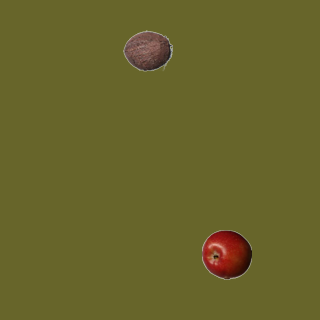Apple Braeburn: (201, 229, 251, 279)
Cocos: (122, 25, 172, 75)
